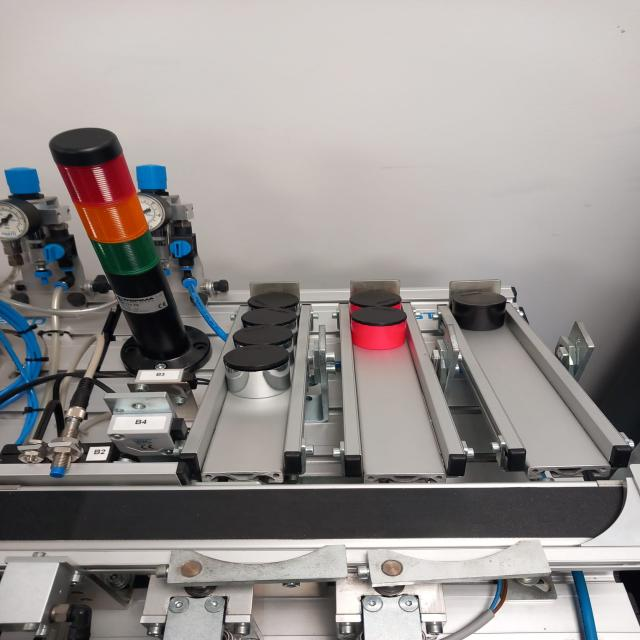Workpiece: (220, 347, 294, 400), (448, 290, 512, 332), (351, 308, 410, 351), (228, 326, 300, 346), (349, 290, 404, 314), (238, 310, 304, 328), (247, 290, 300, 310)
